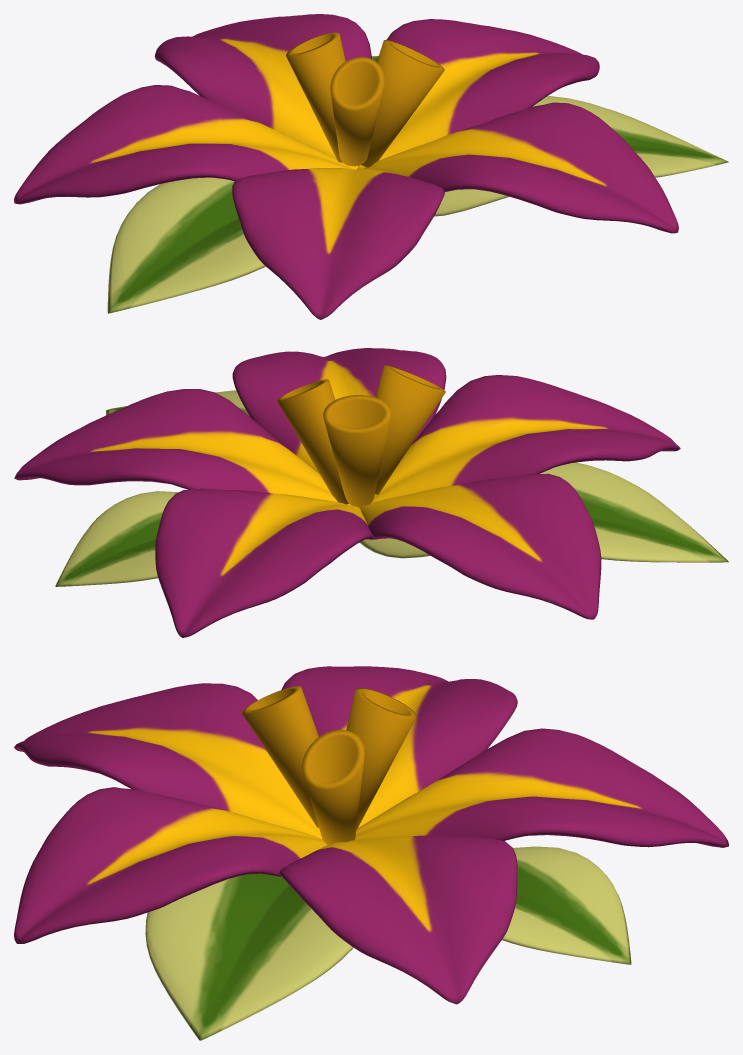
The model's file is Spell Flower.fbx.
3 renders of one model, top to bottom at view 1: azimuth 30°, elevation 25°; view 2: azimuth 150°, elevation 25°; view 3: azimuth 270°, elevation 25°, orthographic. The views are drawn at different scales.
Visible parts, largest first — view 1: Flower.004, Flower.003, Flower.002, Sprout_Leaf.007, Flower.005, Flower, Cylinder.012, Cylinder.002, Cylinder.001; view 2: Flower.002, Flower, Flower.005, Flower.003, Sprout_Leaf.007, Flower.004, Sprout_Leaf.008, Cylinder.001, Cylinder.002, Cylinder.012; view 3: Flower.004, Flower.005, Flower, Flower.003, Sprout_Leaf.007, Flower.002, Sprout_Leaf.008, Cylinder.012, Cylinder.002, Cylinder.001.
Boxes of the visible parts, x1,y1,x2,y2 form: Flower.004: (363, 102, 678, 233); Flower.003: (232, 168, 444, 319); Flower.002: (14, 85, 351, 204); Sprout_Leaf.007: (107, 95, 728, 313); Flower.005: (357, 19, 599, 169); Flower: (154, 14, 371, 169); Cylinder.012: (361, 40, 444, 167); Cylinder.002: (330, 57, 384, 166); Cylinder.001: (286, 32, 345, 162); Flower.002: (359, 473, 601, 619); Flower: (155, 488, 373, 637); Flower.005: (14, 389, 351, 505); Flower.003: (359, 375, 680, 507); Sprout_Leaf.007: (106, 390, 728, 562); Flower.004: (232, 348, 446, 507); Sprout_Leaf.008: (55, 491, 177, 586); Cylinder.001: (323, 395, 391, 507); Cylinder.002: (375, 365, 445, 494); Cylinder.012: (277, 379, 348, 504); Flower.004: (14, 787, 327, 943); Flower.005: (279, 835, 517, 1004); Flower: (355, 728, 728, 847); Flower.003: (14, 683, 322, 838); Sprout_Leaf.007: (145, 873, 353, 1040); Flower.002: (281, 666, 517, 827); Sprout_Leaf.008: (502, 846, 631, 964); Cylinder.012: (302, 729, 364, 844); Cylinder.002: (242, 686, 318, 827); Cylinder.001: (346, 688, 416, 830).
Size of the model in its own units: 99.1 by 23.57 by 88.03.
